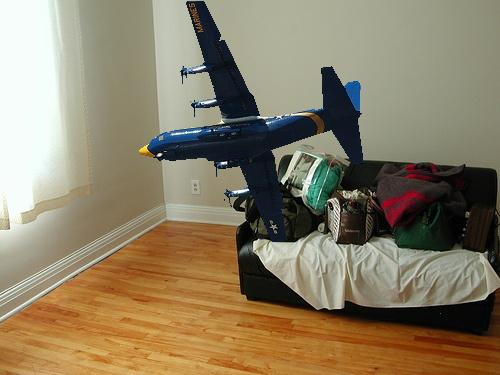tampered: (140, 2, 363, 242)
